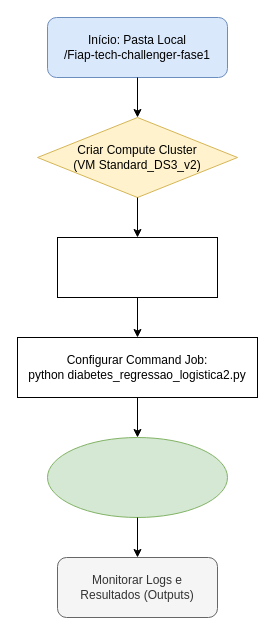
Some shapes in this 275 by 635 pixel diagram are drawn without their labels. Here are the shapes that lost their labels. From the top down, the centre of each, then its label:
(x=137, y=267): Upload da Pasta para Azure ML Storage
(x=137, y=477): Execução no Cluster (Treinamento e Incerência)
